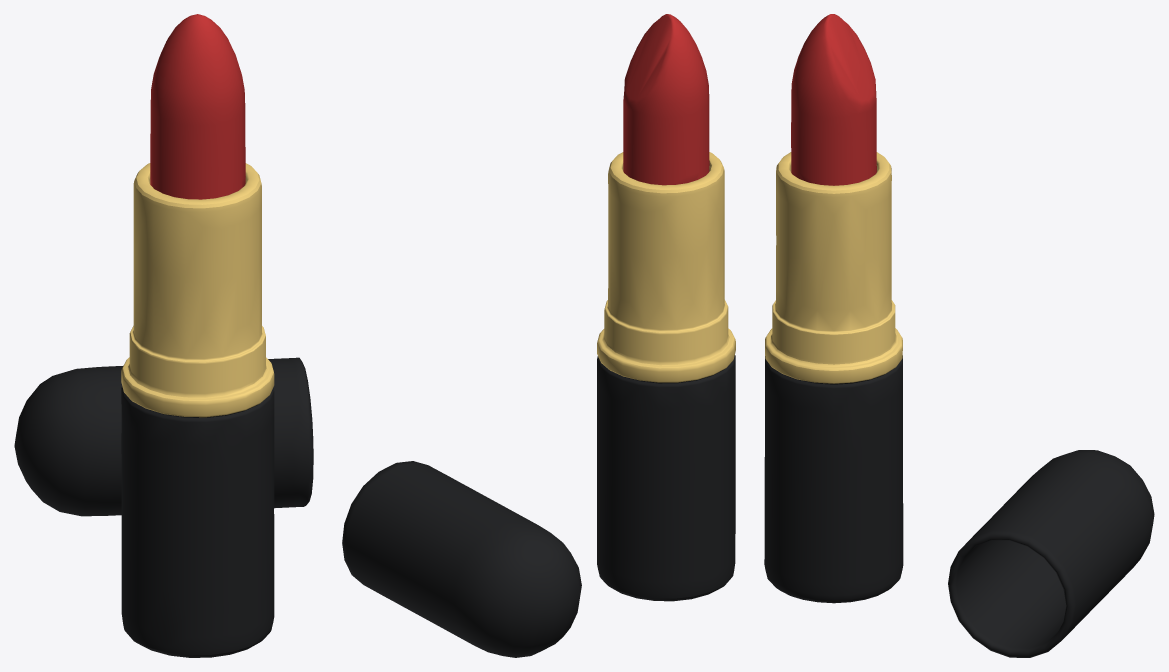
Rendered from 5_material33_rossetto.fbx.
3 renders of one model, left to right at view 1: azimuth 30°, elevation 25°; view 2: azimuth 150°, elevation 25°; view 3: azimuth 270°, elevation 25°, orthographic. The views are drawn at different scales.
Parts seen in each view (by area): view 1: Lipstick; view 2: Lipstick; view 3: Lipstick.
Part boxes in pixels (bbox=[...]): Lipstick: bbox=[14, 14, 313, 657]; Lipstick: bbox=[342, 14, 735, 657]; Lipstick: bbox=[764, 14, 1154, 657].
Bounding box in the file's own units: 232 × 466 × 293.
